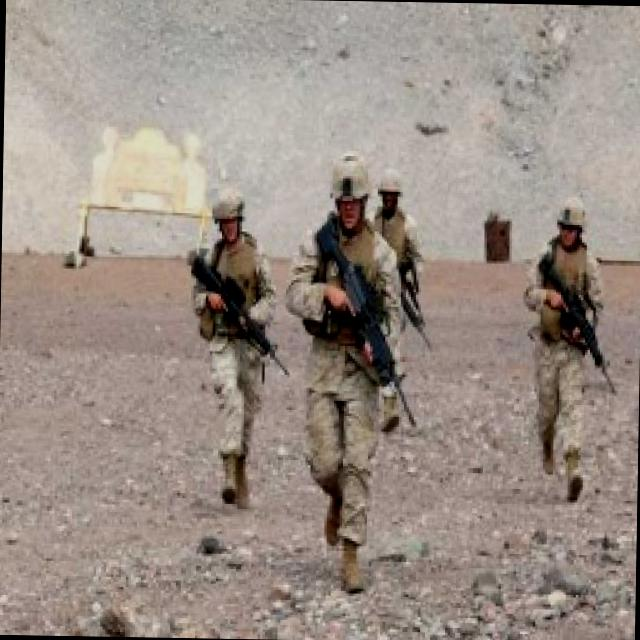long weapon: (295, 223, 432, 423), (175, 249, 293, 378), (517, 254, 633, 368)
